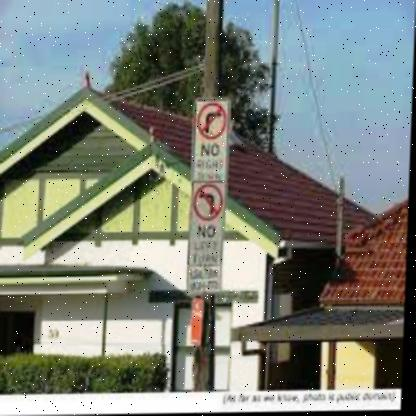No left turn: (198, 179, 223, 224)
